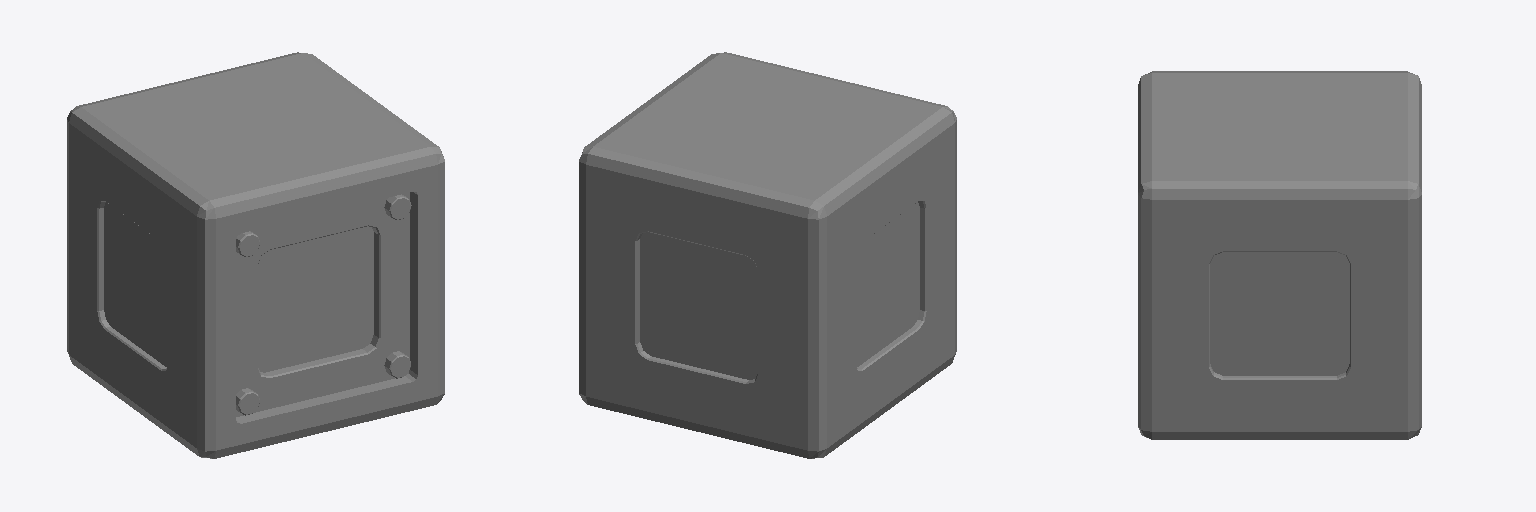
File: cpz_obj_pushbox_000.obj
The picture shows the model from 3 angles: view 1: azimuth 30°, elevation 25°; view 2: azimuth 150°, elevation 25°; view 3: azimuth 270°, elevation 25°; orthographic projection.
Visible parts, largest first — view 1: cpz_metal_st1_box01_cmn_dsn, cpz_etc_tn1_motionlight02; view 2: cpz_metal_st1_box01_cmn_dsn, cpz_etc_tn1_motionlight02; view 3: cpz_metal_st1_box01_cmn_dsn, cpz_etc_tn1_motionlight02.
Part boxes in pixels (x1,y1,x2,y2): cpz_metal_st1_box01_cmn_dsn: (67, 52, 444, 458); cpz_etc_tn1_motionlight02: (104, 202, 373, 372); cpz_metal_st1_box01_cmn_dsn: (579, 52, 956, 458); cpz_etc_tn1_motionlight02: (640, 202, 919, 379); cpz_metal_st1_box01_cmn_dsn: (1138, 71, 1421, 439); cpz_etc_tn1_motionlight02: (1210, 252, 1349, 375).
Size of the model in its own units: 71.88 by 72.05 by 71.88.